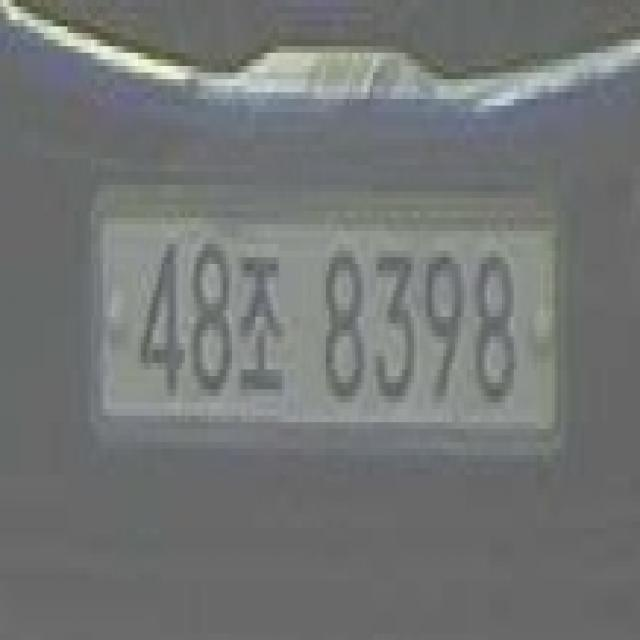3: (374, 245, 418, 400)
4: (138, 229, 189, 417)
8: (191, 235, 235, 412), (471, 248, 518, 410), (320, 252, 370, 404)
9: (425, 240, 466, 413)
jo: (238, 246, 288, 413)
license_plate: (84, 160, 566, 490)
